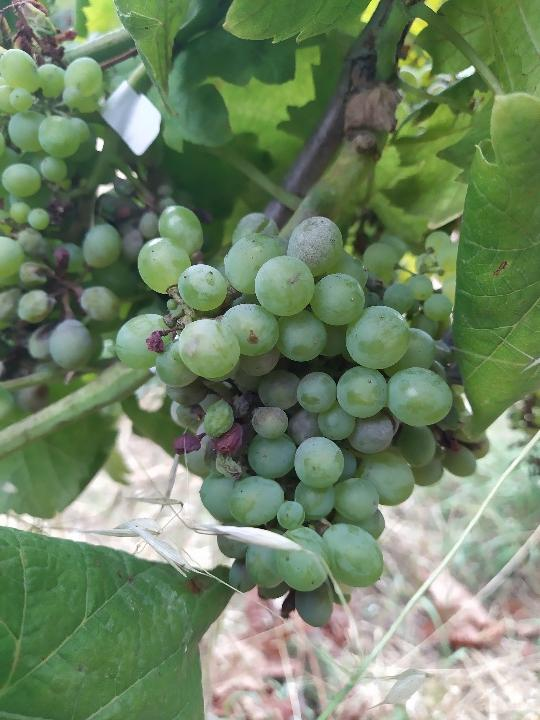grape: (111, 202, 457, 630)
